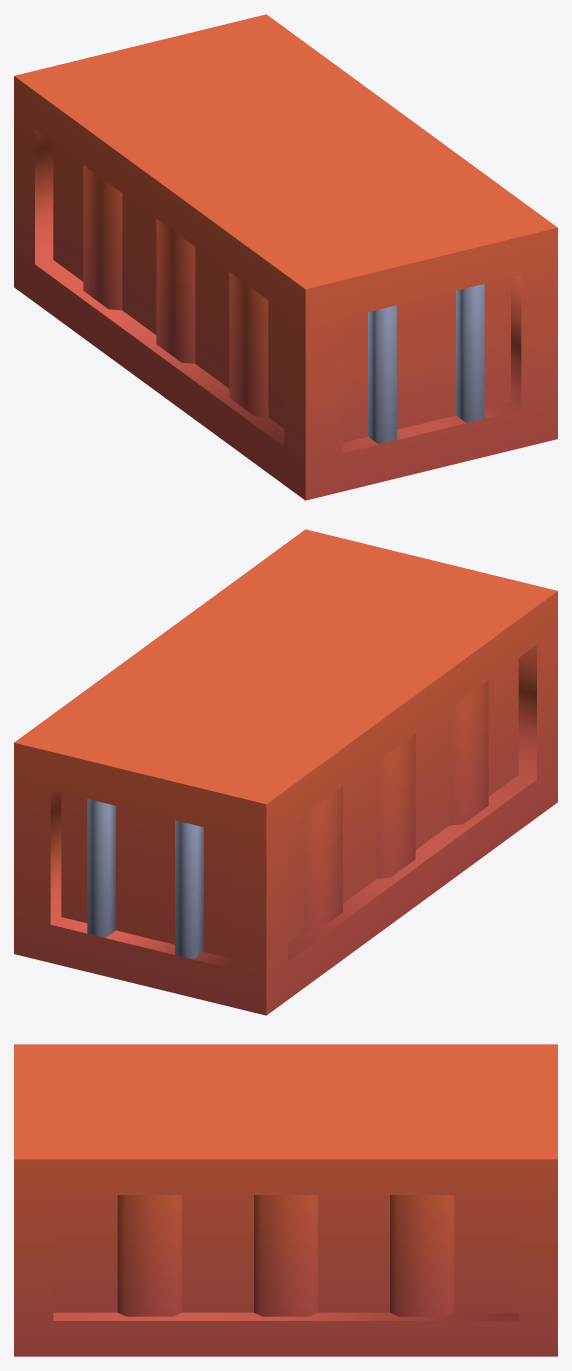
The model's file is cargo-container-a-transformed-transformed.glb.
3 renders of one model, top to bottom at view 1: azimuth 30°, elevation 25°; view 2: azimuth 150°, elevation 25°; view 3: azimuth 270°, elevation 25°, orthographic. The views are drawn at different scales.
Parts seen in each view (by area): view 1: cargo-container-a; view 2: cargo-container-a; view 3: cargo-container-a.
Boxes of the visible parts, bbox=[...] form: cargo-container-a: bbox=[14, 14, 557, 500]; cargo-container-a: bbox=[14, 529, 557, 1015]; cargo-container-a: bbox=[14, 1044, 557, 1356].
Bounding box in the file's own units: 1.38 × 1.1 × 2.76.
1 material, 1 textured.
